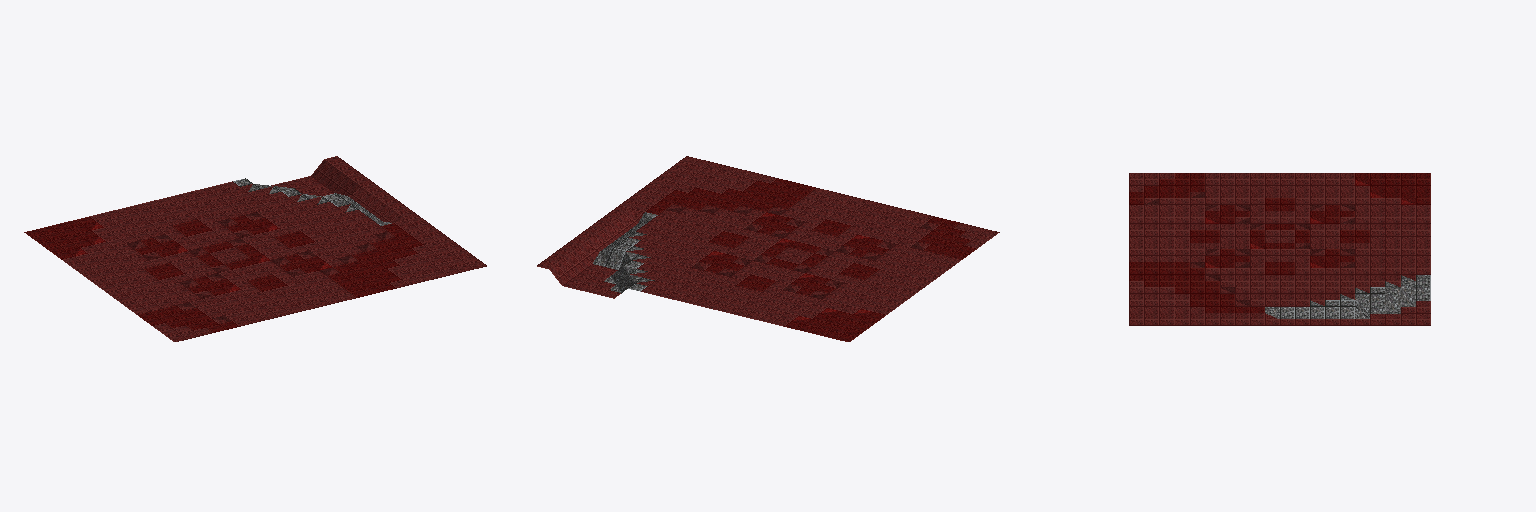
3 renders of one model, left to right at view 1: azimuth 30°, elevation 25°; view 2: azimuth 150°, elevation 25°; view 3: azimuth 270°, elevation 25°, orthographic.
Visible parts, largest first — view 1: FloorSide_3; view 2: FloorSide_3; view 3: FloorSide_3.
Boxes of the visible parts, x1,y1,x2,y2 form: FloorSide_3: [24, 156, 486, 341]; FloorSide_3: [537, 156, 999, 341]; FloorSide_3: [1129, 173, 1430, 325].
Bounding box in the file's own units: 24 × 0.9857 × 20.
11 materials, 11 textured.